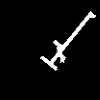double_crochet: (40, 11, 95, 69)
